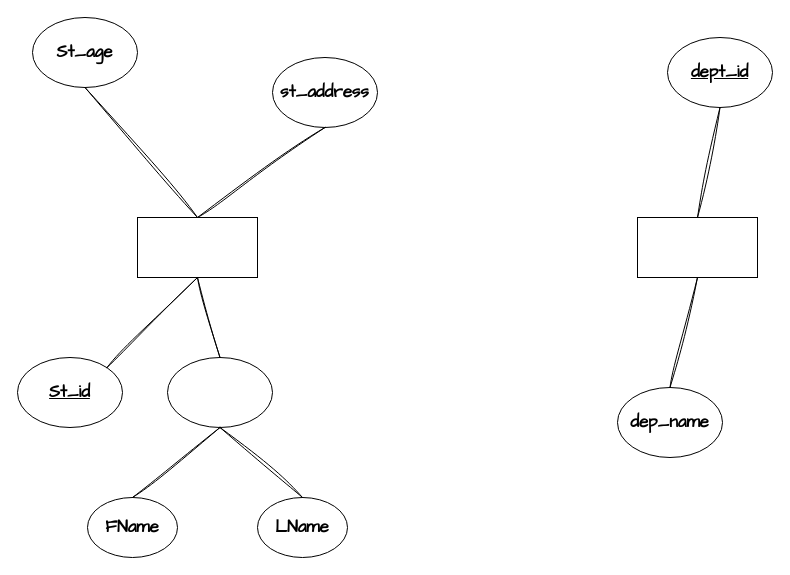
Some shapes in this 790 by 575 pixel diagram are drawn without their labels. Here are the shapes that lost their labels. From the top down, the centre of each, then its label:
point 197,247: Student
point 697,247: Department
point 219,392: studentName
